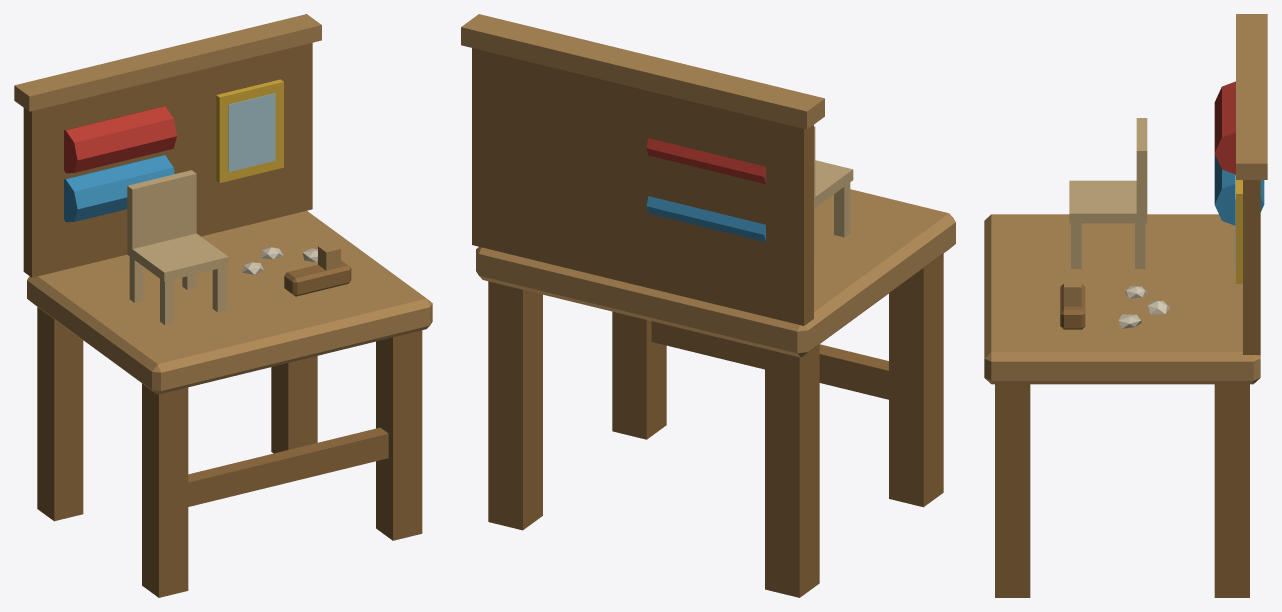
File: wb_furn.fbx
3 renders of one model, left to right at view 1: azimuth 30°, elevation 25°; view 2: azimuth 150°, elevation 25°; view 3: azimuth 270°, elevation 25°, orthographic. The views are drawn at different scales.
Visible parts, largest first — view 1: wb_furn; view 2: wb_furn; view 3: wb_furn.
Part boxes in pixels (<box>): wb_furn: <box>14,14,432,597</box>; wb_furn: <box>461,14,955,597</box>; wb_furn: <box>984,14,1267,597</box>.
Size of the model in its own units: 3 by 4.13 by 2.4.
